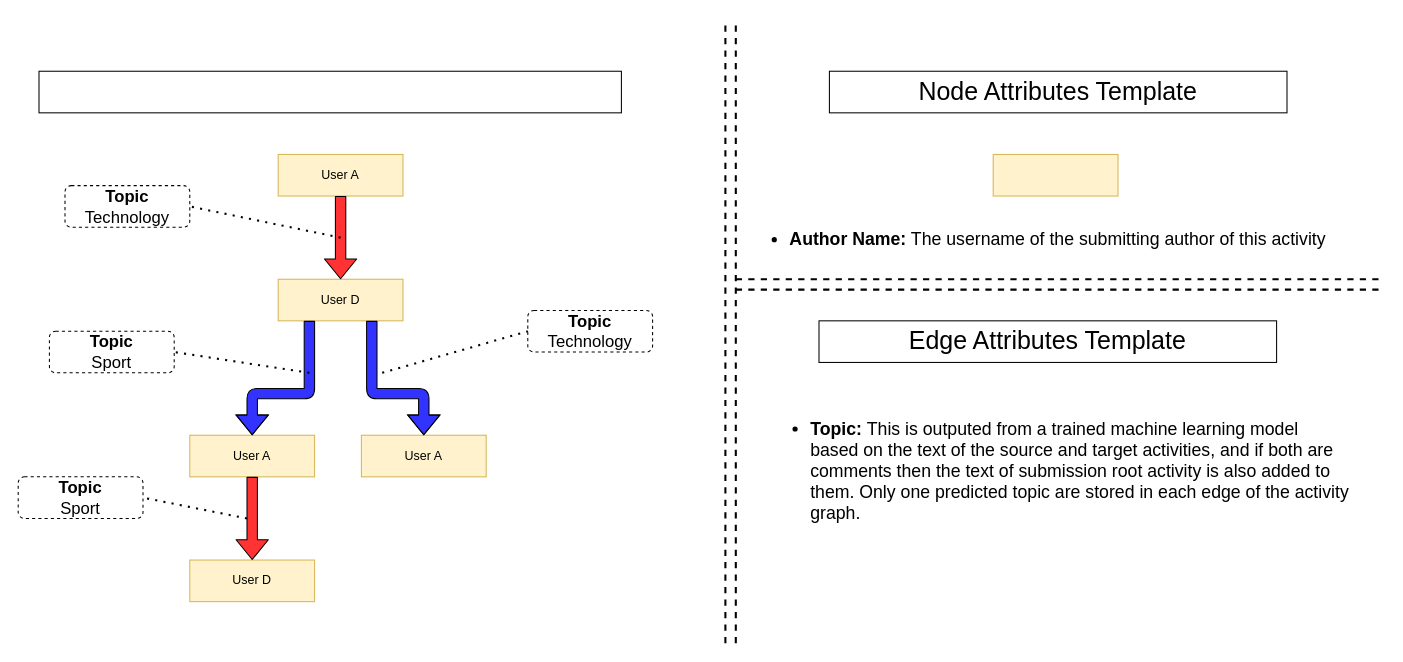
Some shapes in this 1403 by 662 pixel diagram are drawn without their labels. The centre of each missing label's shape, as x and y in pixels:
"Activity Graph" goes at [329,91].
"Author Name" goes at [1055,174].
